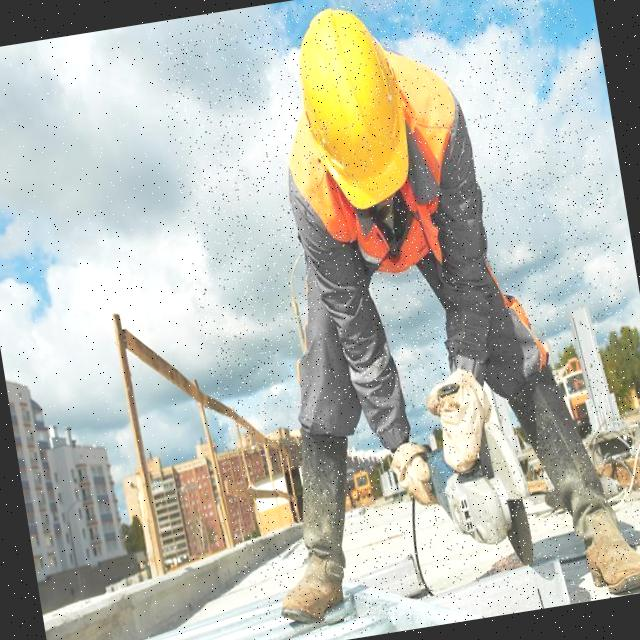boots: (501, 352, 640, 608), (252, 422, 378, 630)
helmet: (287, 0, 419, 215)
vest: (273, 43, 481, 290)
